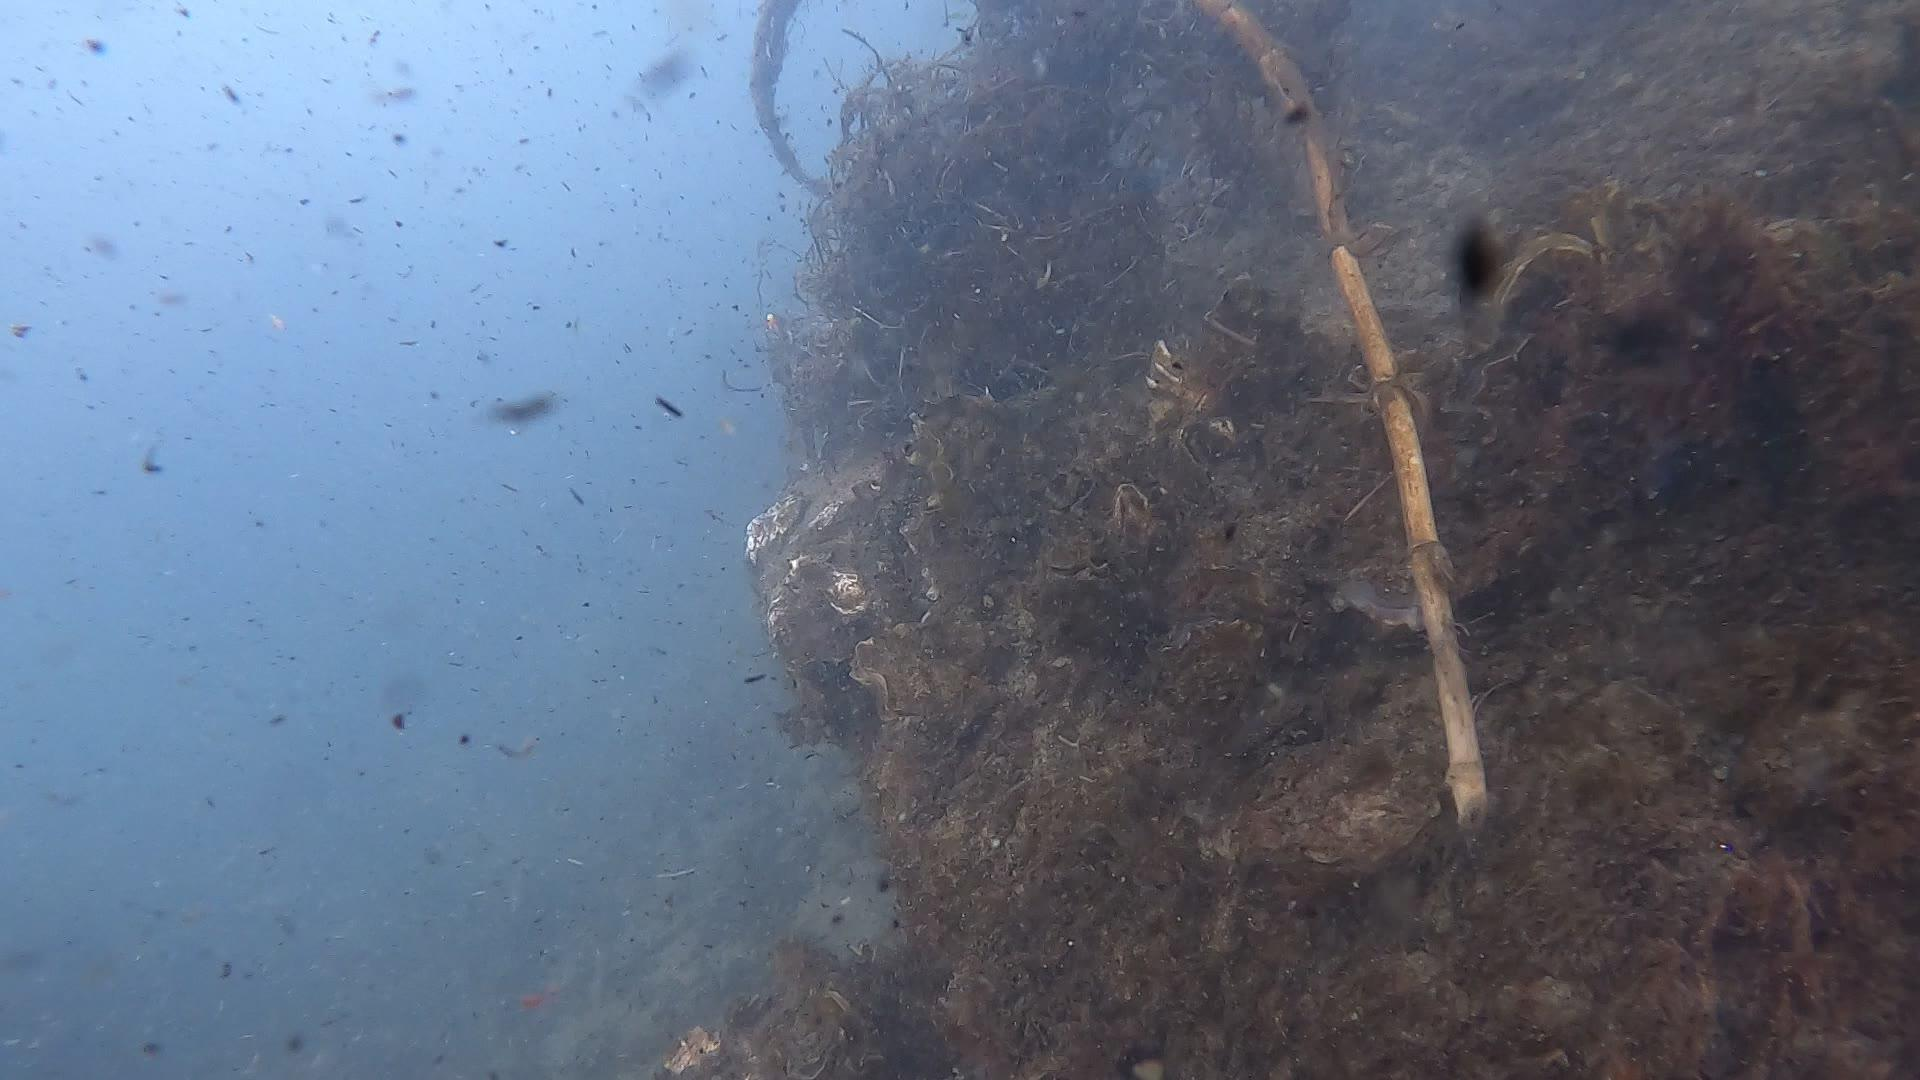wood: (1200, 0, 1493, 839)
